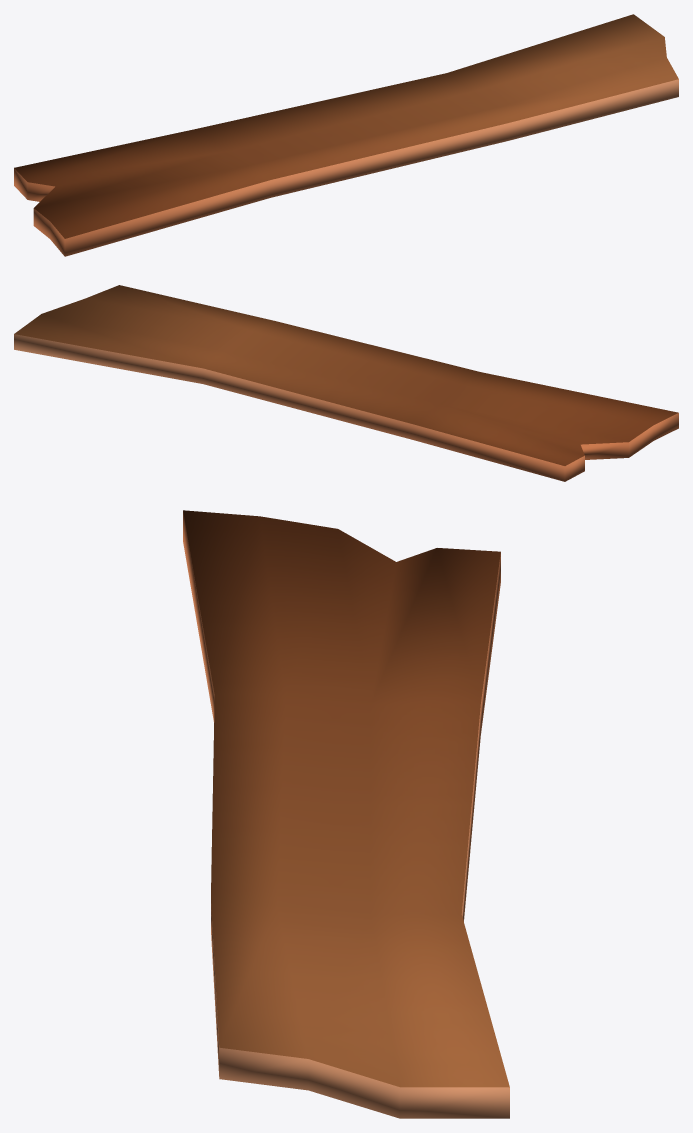
The model's file is WoodPlank.gltf.
The picture shows the model from 3 angles, top to bottom: view 1: azimuth 30°, elevation 25°; view 2: azimuth 150°, elevation 25°; view 3: azimuth 270°, elevation 25°; orthographic projection. The views are drawn at different scales.
Parts seen in each view (by area): view 1: Planks; view 2: Planks; view 3: Planks.
Part boxes in pixels (x1,y1,x2,y2): Planks: [14, 14, 678, 256]; Planks: [14, 285, 678, 481]; Planks: [183, 510, 509, 1118].
Bounding box in the file's own units: 6.8 × 0.2176 × 1.65.
Materials: 1 (1 with a texture image).
